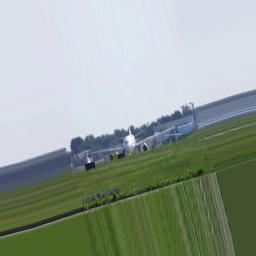Airplane: (83, 125, 176, 162)
